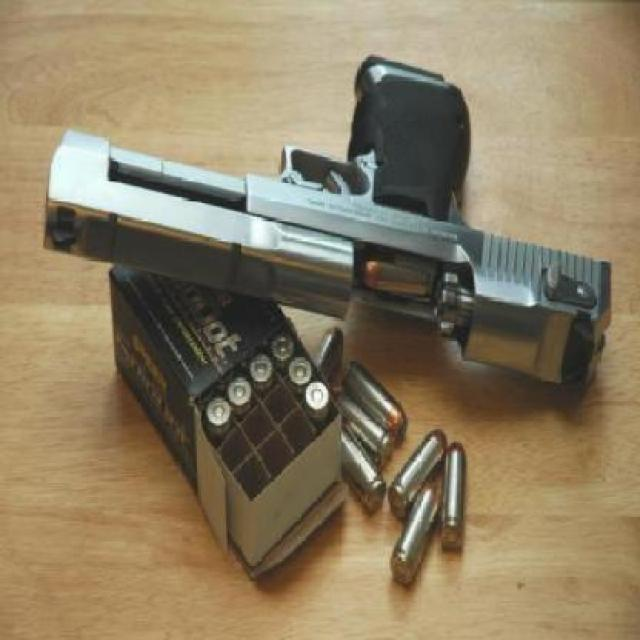gun: (42, 53, 612, 395)
